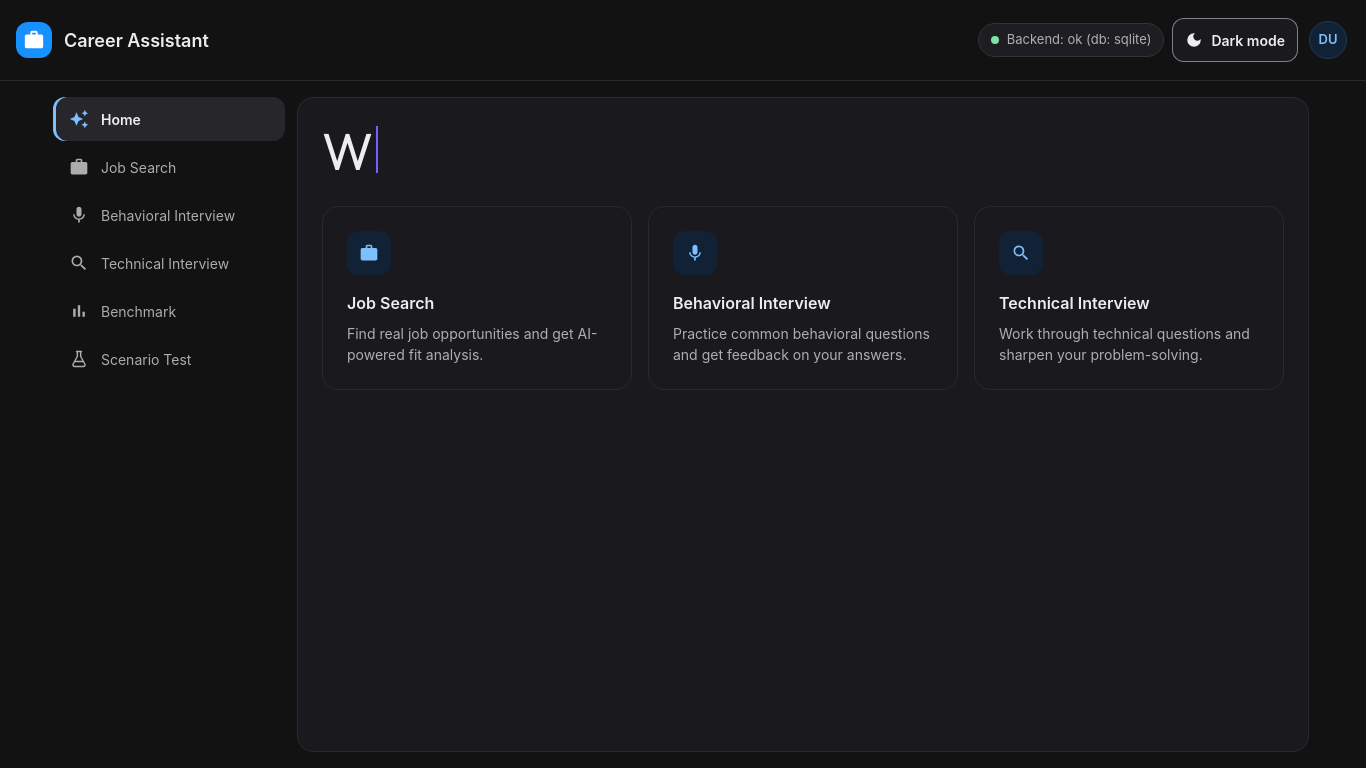
Test: App › starts a behavioral interview for the job from "Practice interview"
This screenshot has width=1366, height=768.
Click the button "Job Search" at (169, 167), box [53,145,285,189]
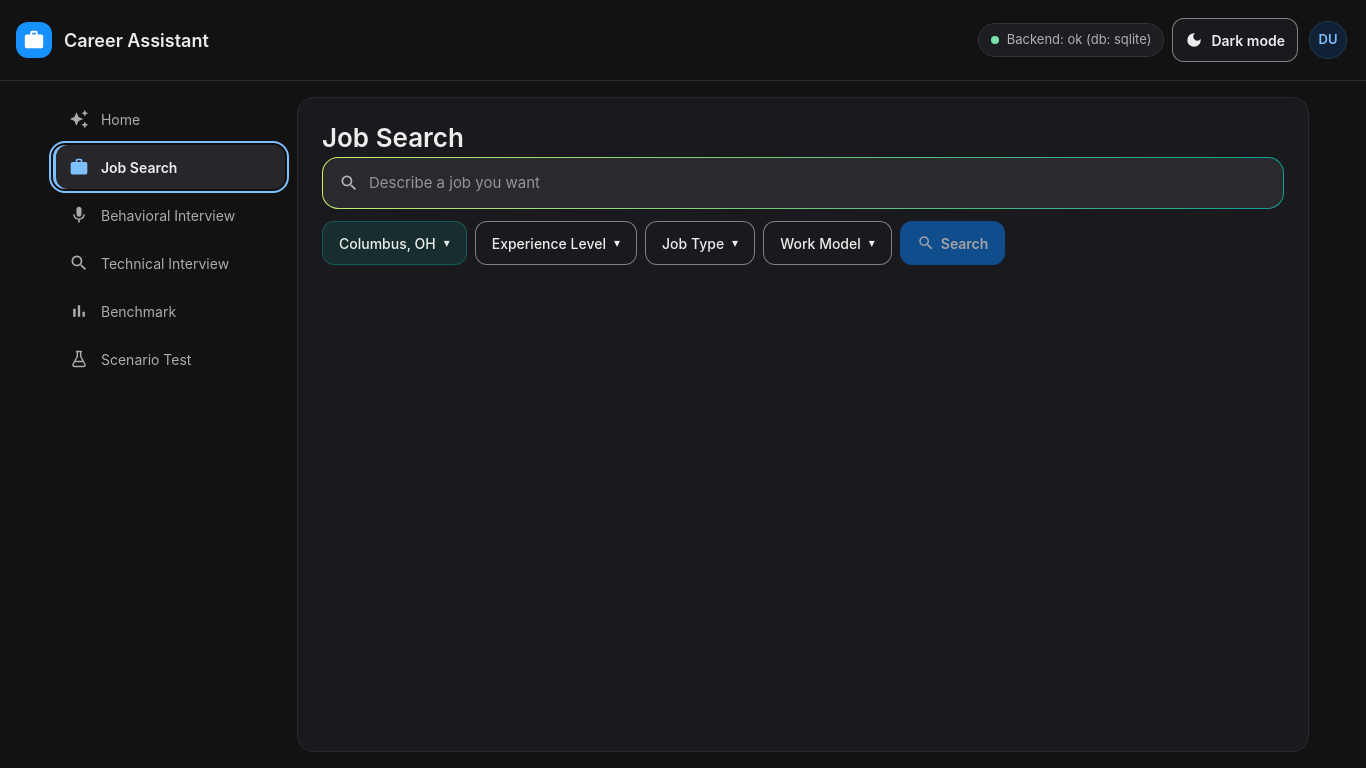
Type "Software Engineer Intern" into the field labelled "Describe a job you want" at (817, 183), box [367,158,1267,208]
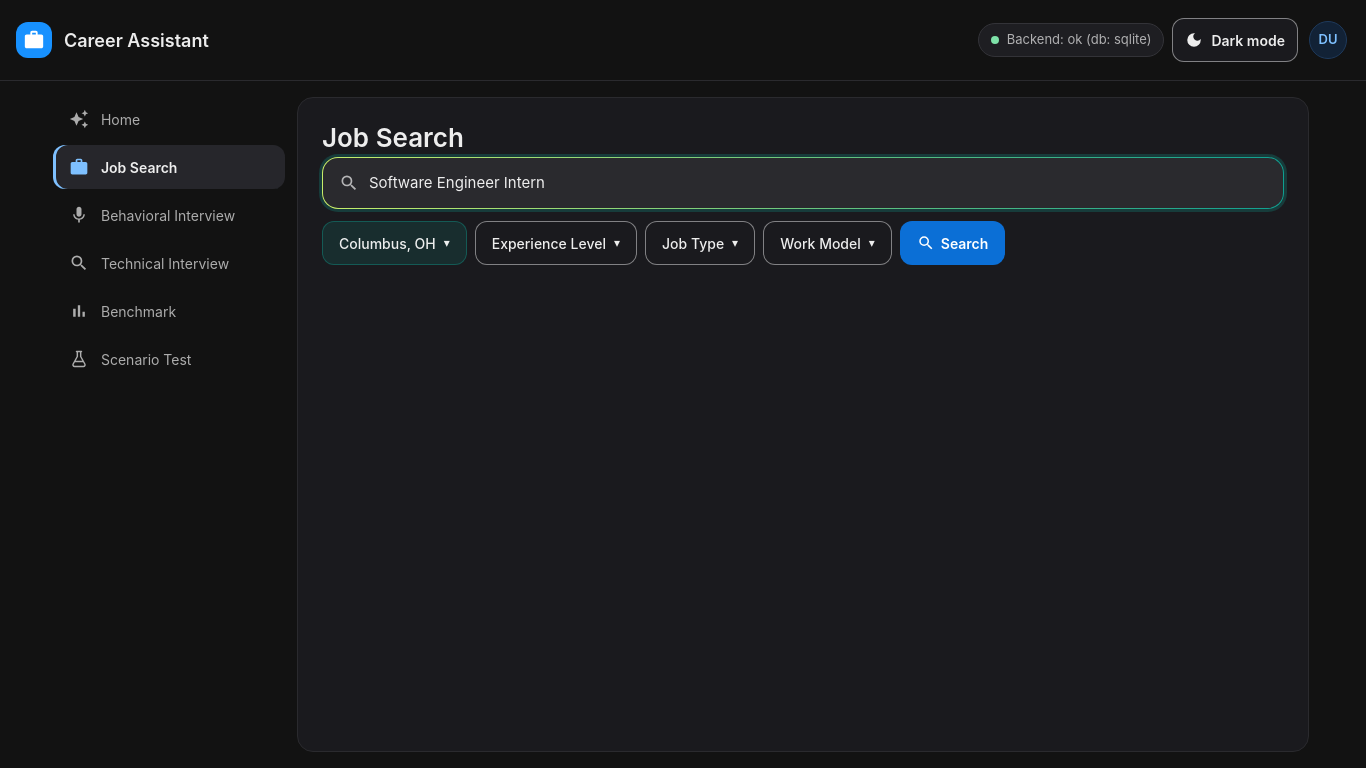
Click the button "Search" at (953, 243), box [900,221,1005,265]
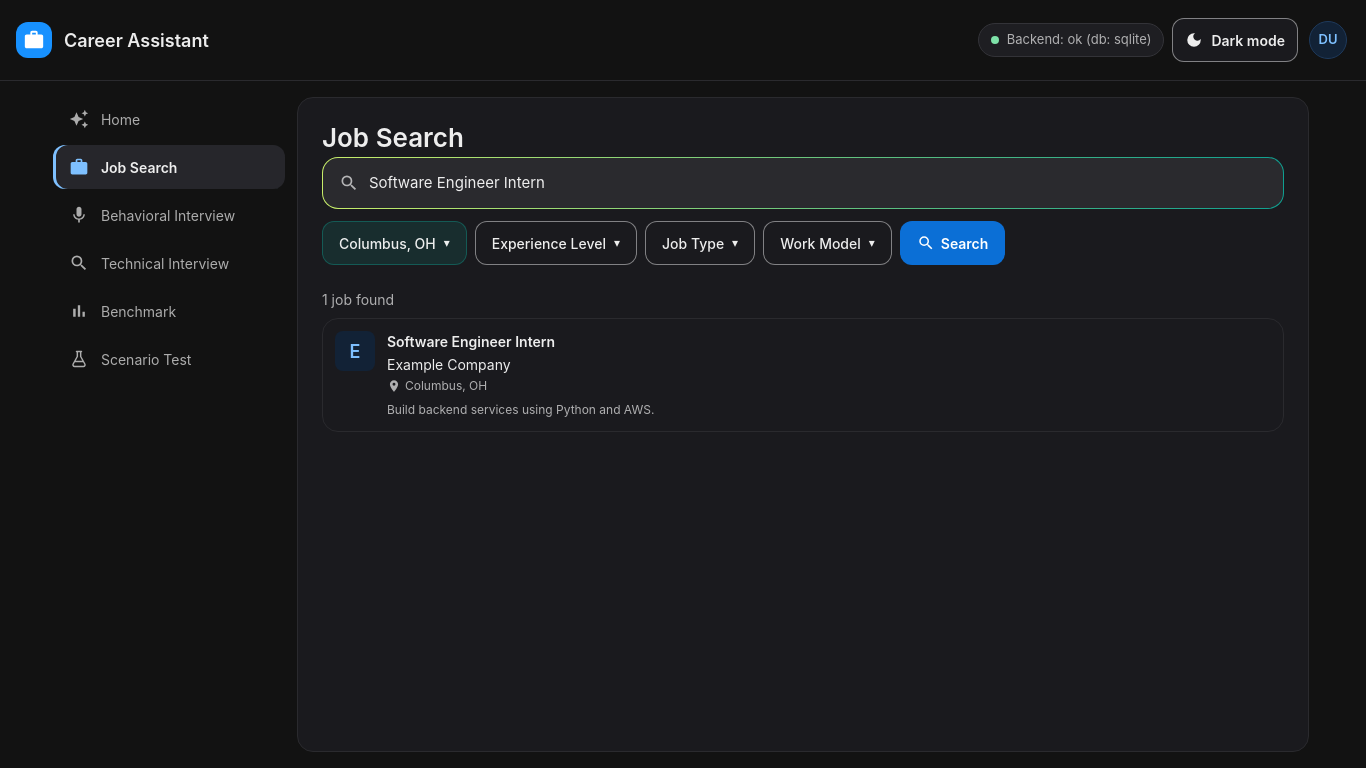
Click the button "Software Engineer Intern" at (355, 351), box [322,318,1284,432]
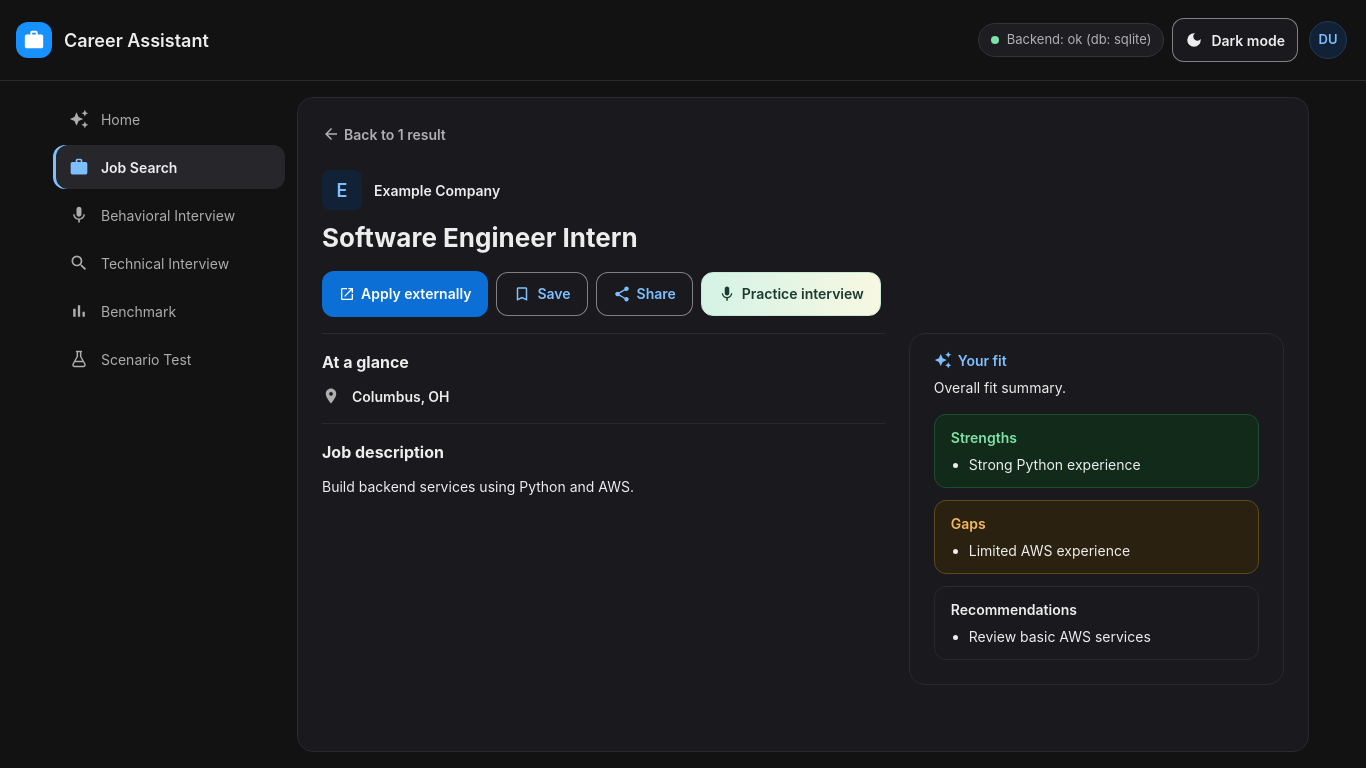
Click the button "Practice interview" at (791, 294), box [701,272,881,316]
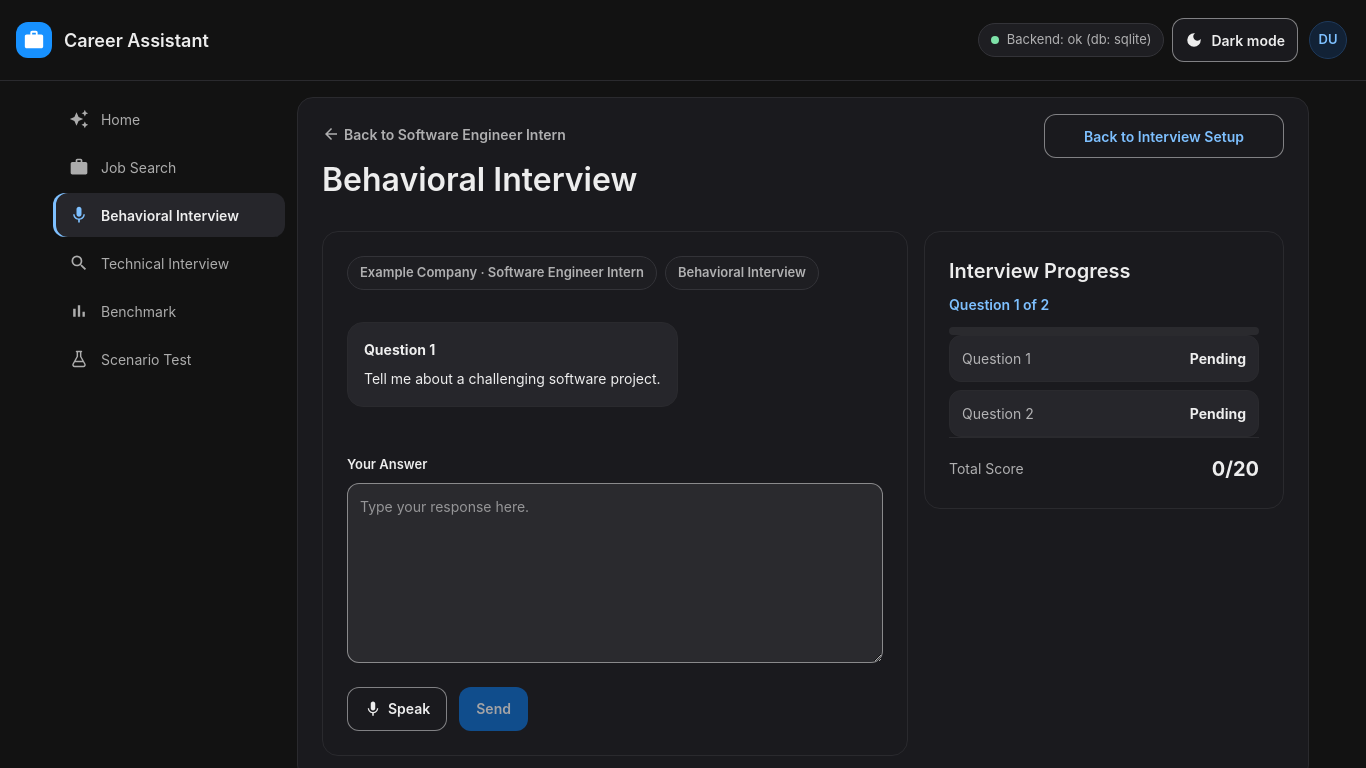
Check: the text "Example Company · Software Engineer Intern" is shown, box [347,256,657,290]
Check: the text "Tell me about a challenging software project." is shown, box [364,368,661,390]
